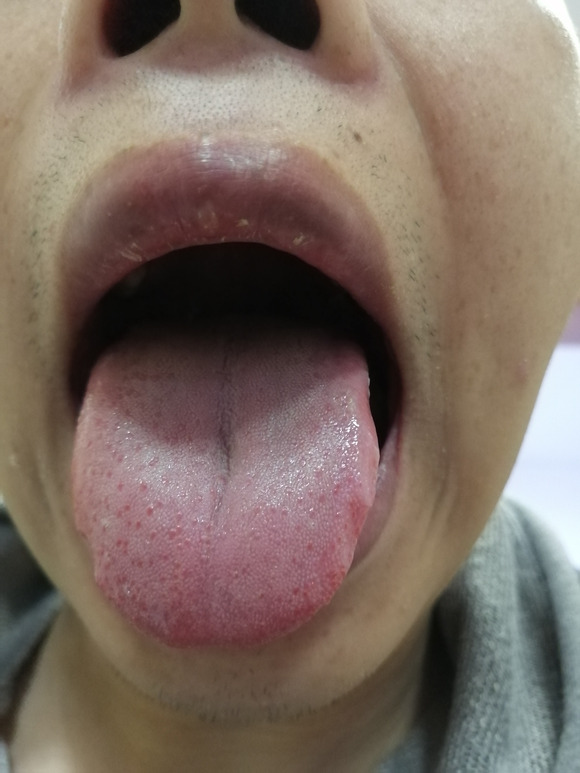baitaishe: (72, 315, 380, 655)
hongdianshe: (143, 502, 154, 520)
hongshe: (72, 315, 380, 655)
